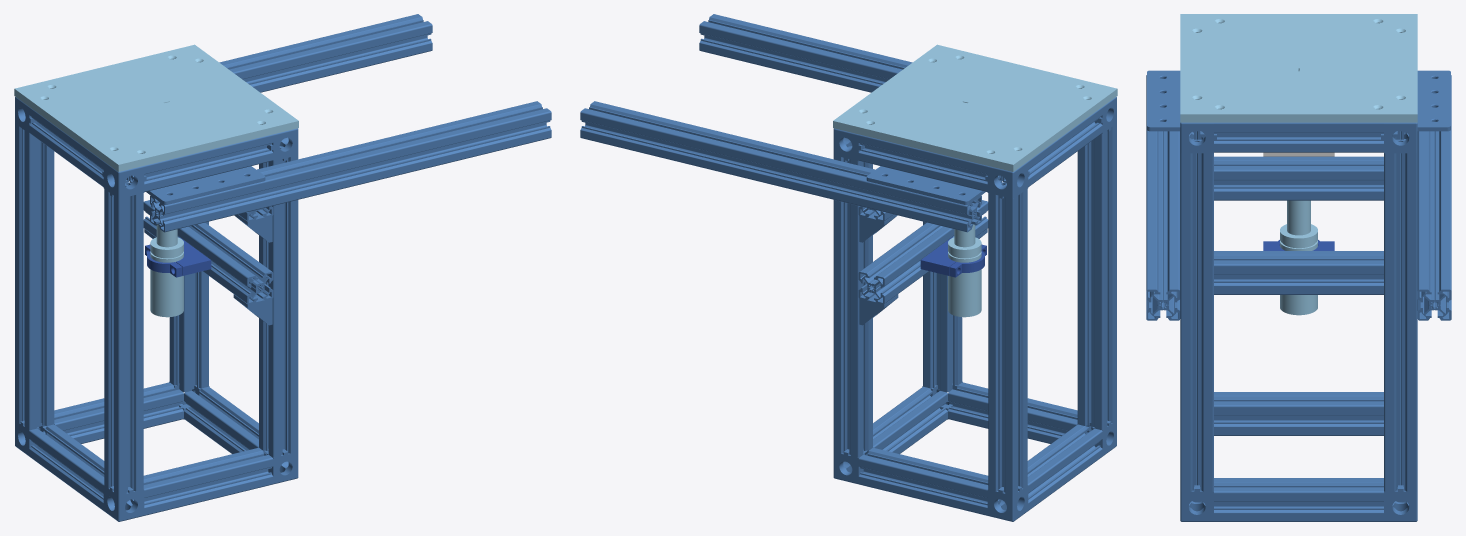
File: us_cutter_enclosure.dae
3 renders of one model, left to right at view 1: azimuth 30°, elevation 25°; view 2: azimuth 150°, elevation 25°; view 3: azimuth 270°, elevation 25°, orthographic. The views are drawn at different scales.
Parts seen in each view (by area): view 1: ST-EXT-001-0495 (×4), ST-EXT-001-0675 (×2), ST-EXT-001-0225 (×6), CuttingPlate, ST-EXT-001-0315, ST-GP-004-0001 (×4), knife, ST-GP-001-0002, transducer_mount_bottom; view 2: ST-EXT-001-0495 (×4), ST-EXT-001-0675 (×2), ST-EXT-001-0225 (×6), CuttingPlate, ST-EXT-001-0315, ST-GP-004-0001 (×4), knife, ST-GP-001-0002, transducer_mount_bottom; view 3: CuttingPlate, ST-EXT-001-0495 (×2), ST-EXT-001-0225 (×3), ST-EXT-001-0315 (×2), ST-EXT-001-0675 (×2), ST-GP-004-0001 (×4), ST-GP-001-0002 (×2), knife, horn_mount_bottom.
Part boxes in pixels (box(x1,y1,x2,y2)): ST-EXT-001-0495 (×4): box(15, 123, 298, 495); ST-EXT-001-0675 (×2): box(150, 14, 551, 232); ST-EXT-001-0225 (×6): box(29, 107, 273, 515); CuttingPlate: box(14, 44, 298, 171); ST-EXT-001-0315: box(143, 200, 273, 304); ST-GP-004-0001 (×4): box(102, 128, 298, 521); knife: box(150, 224, 183, 317); ST-GP-001-0002: box(146, 166, 265, 204); transducer_mount_bottom: box(176, 237, 211, 275); ST-EXT-001-0495 (×4): box(833, 123, 1116, 495); ST-EXT-001-0675 (×2): box(580, 14, 981, 232); ST-EXT-001-0225 (×6): box(858, 107, 1102, 515); CuttingPlate: box(833, 44, 1117, 171); ST-EXT-001-0315: box(858, 200, 988, 304); ST-GP-004-0001 (×4): box(833, 128, 1029, 521); knife: box(948, 224, 981, 317); ST-GP-001-0002: box(866, 166, 985, 204); transducer_mount_bottom: box(920, 237, 955, 275); CuttingPlate: box(1180, 14, 1417, 122); ST-EXT-001-0495 (×2): box(1180, 153, 1417, 491); ST-EXT-001-0225 (×3): box(1214, 122, 1383, 521); ST-EXT-001-0315 (×2): box(1214, 156, 1383, 294); ST-EXT-001-0675 (×2): box(1146, 75, 1451, 320); ST-GP-004-0001 (×4): box(1180, 122, 1417, 521); ST-GP-001-0002 (×2): box(1147, 70, 1450, 131); knife: box(1280, 200, 1317, 315); horn_mount_bottom: box(1263, 152, 1334, 156).
Bounding box in the file's own units: 0.73 × 0.405 × 0.597.
